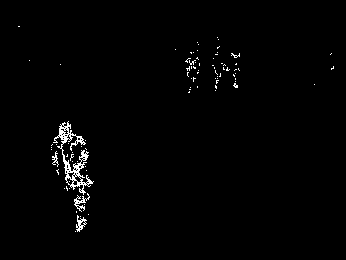person: (52, 121, 93, 234)
